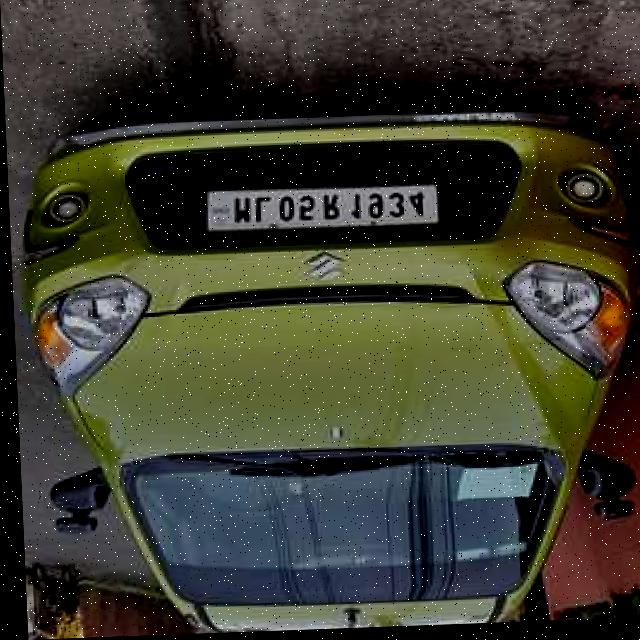plate: (201, 183, 443, 236)
